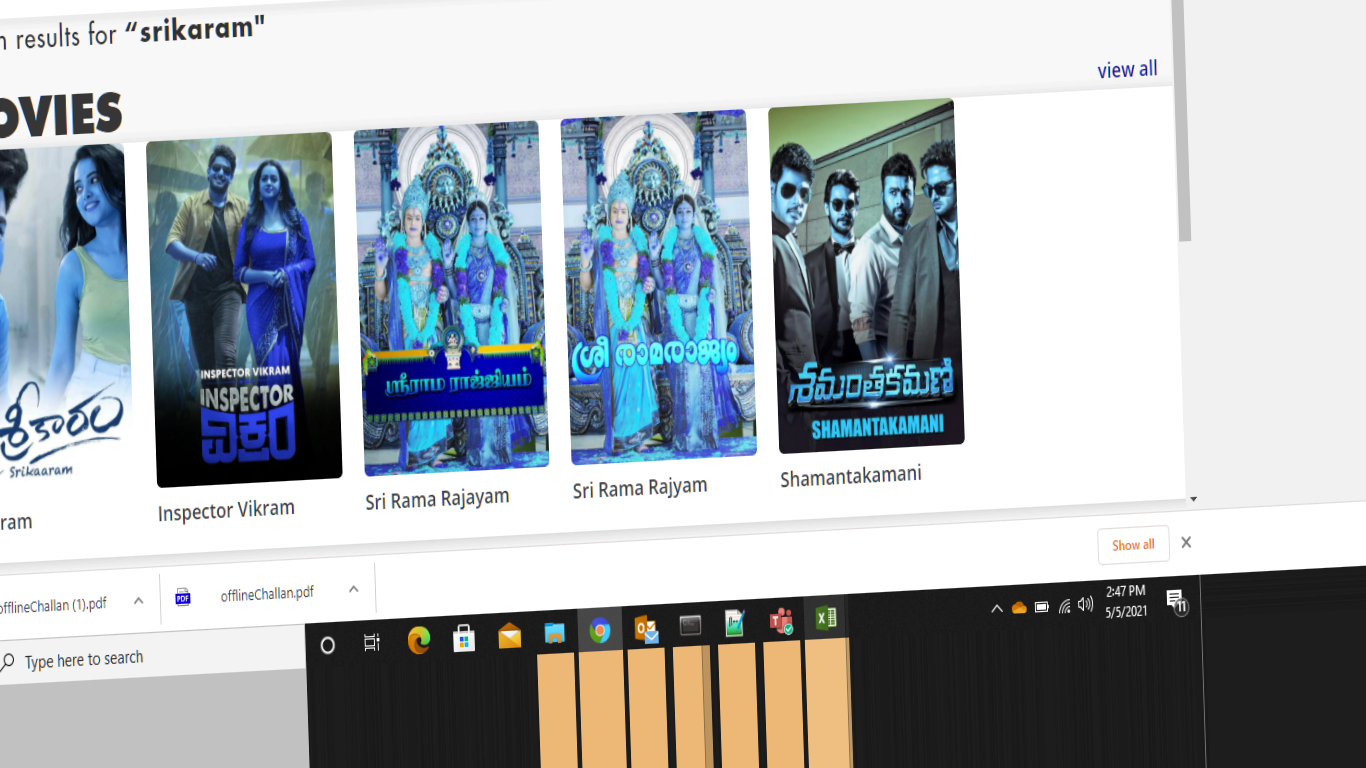resultsfound: (1, 9, 278, 67)
